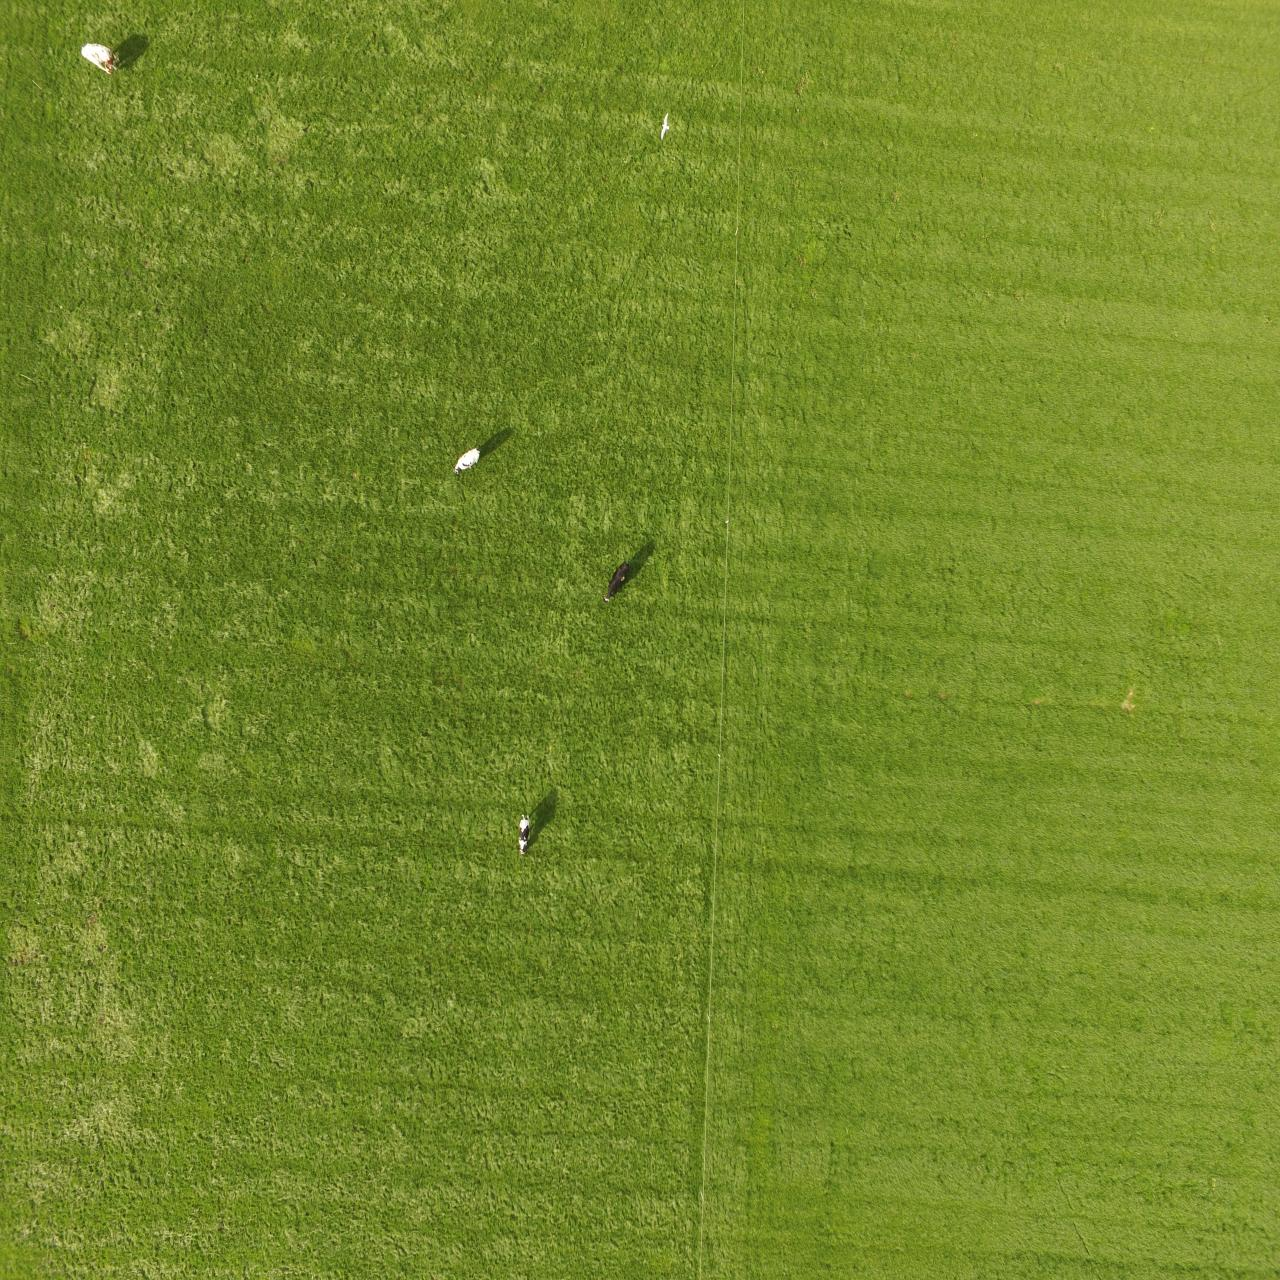cow: (76, 38, 123, 77), (602, 559, 632, 605), (451, 443, 483, 476), (516, 810, 532, 857)
